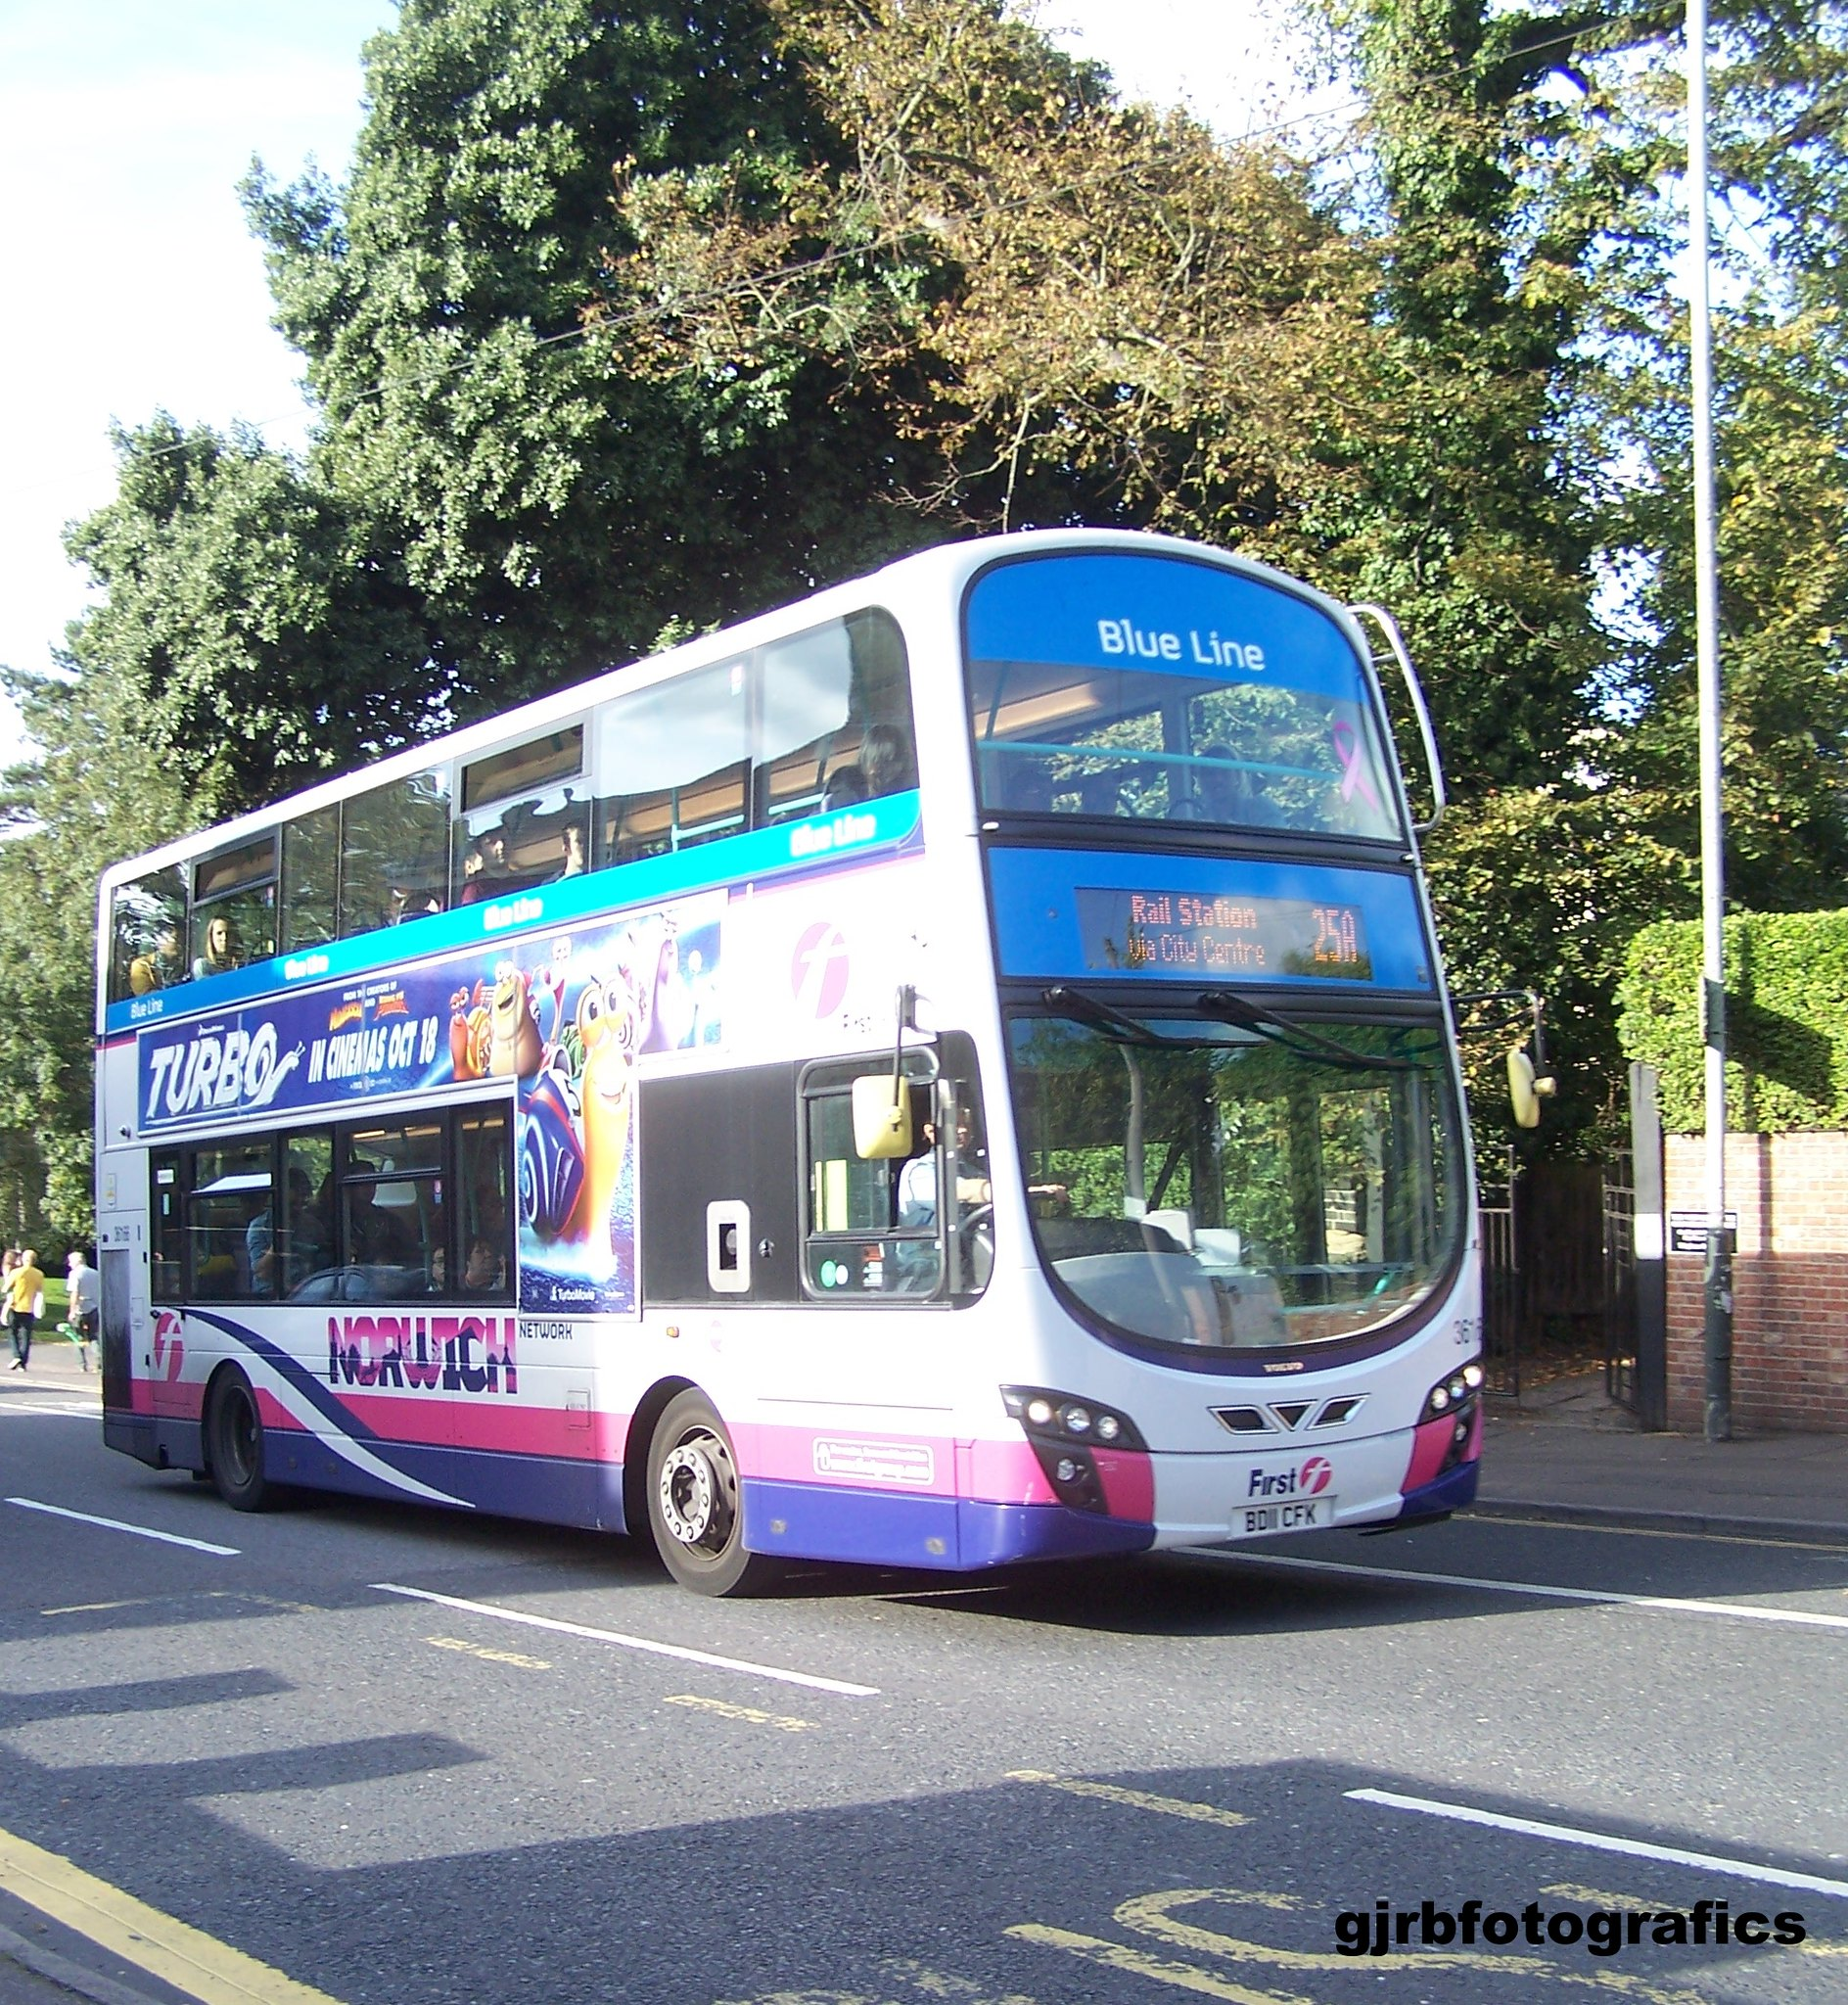bus: (101, 505, 1511, 1621)
